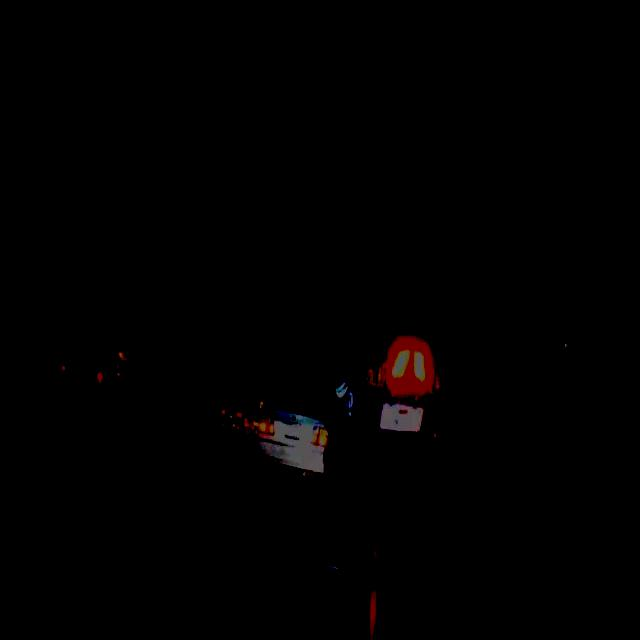Motorbike: (318, 245, 458, 640)
